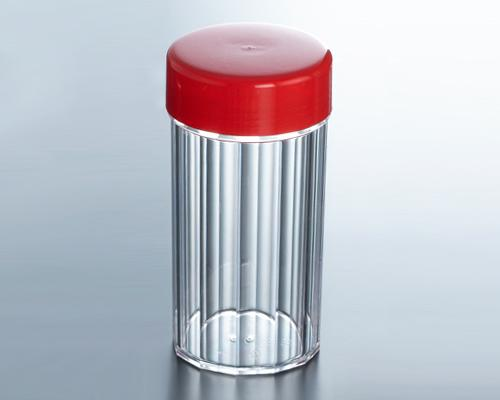medicinejar: (162, 25, 336, 380)
